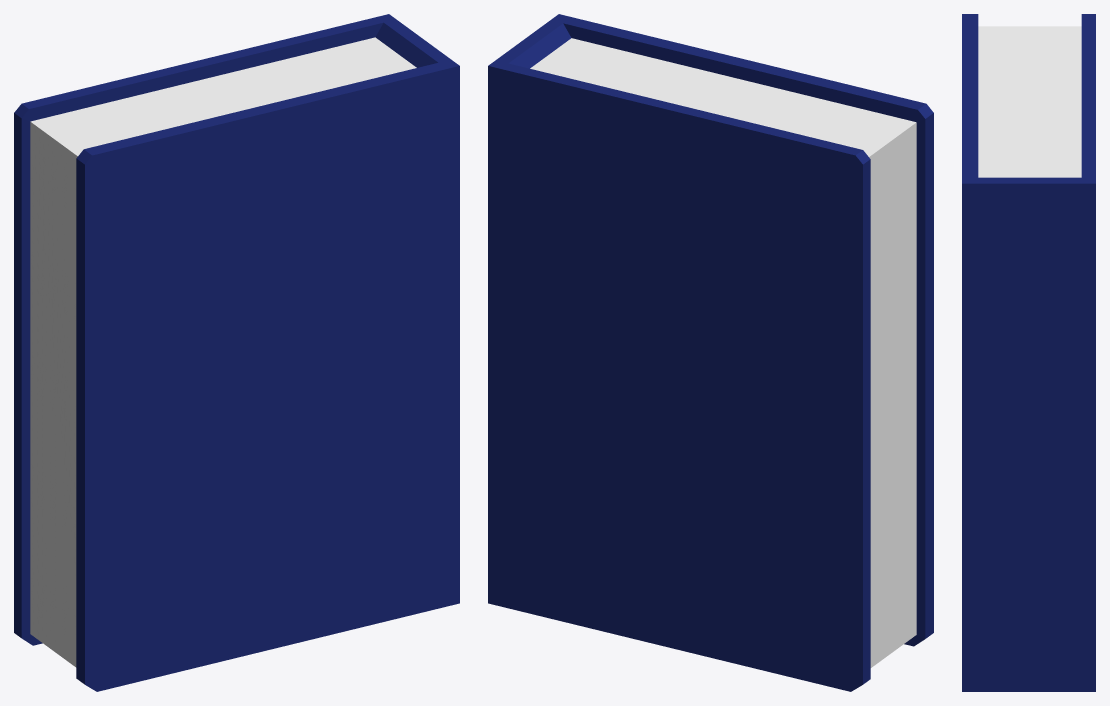
File: book04.gltf
3 renders of one model, left to right at view 1: azimuth 30°, elevation 25°; view 2: azimuth 150°, elevation 25°; view 3: azimuth 270°, elevation 25°, orthographic. The views are drawn at different scales.
Parts seen in each view (by area): view 1: Cube.001; view 2: Cube.001; view 3: Cube.001.
Part boxes in pixels (x1=…): Cube.001: x1=14, y1=14, x2=459, y2=691; Cube.001: x1=488, y1=14, x2=933, y2=691; Cube.001: x1=962, y1=14, x2=1095, y2=691.
Size of the model in its own units: 0.1678 by 0.2299 by 0.0549.
Materials: 1 (1 with a texture image).
